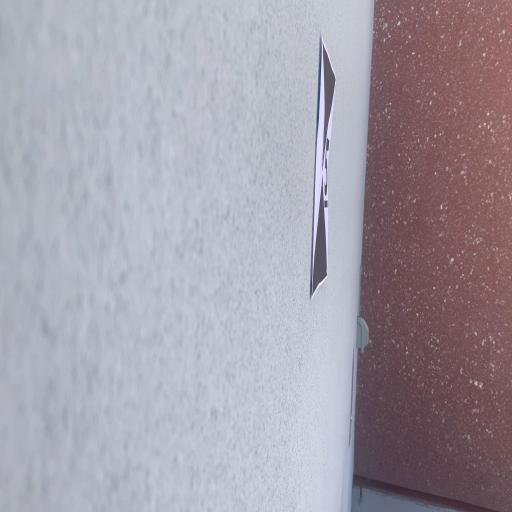target5: (310, 39, 337, 300)
